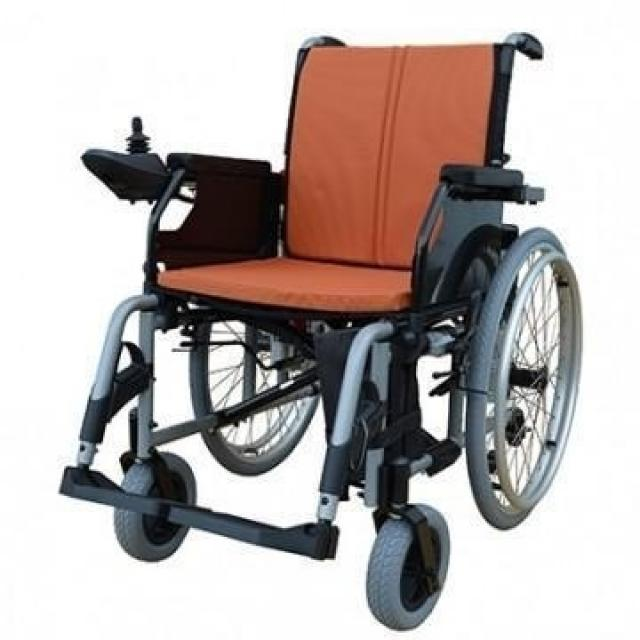wheelchair: (49, 23, 608, 640)
